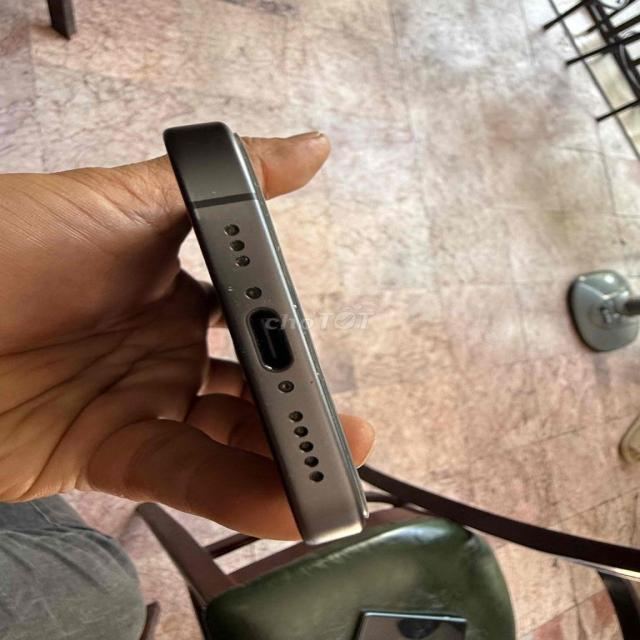gen_17: (147, 104, 397, 556)
scratch: (180, 176, 220, 223), (228, 269, 247, 311)
